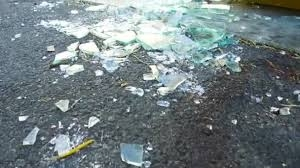glass: (99, 1, 223, 47), (118, 140, 146, 166), (157, 67, 187, 90), (48, 133, 76, 157), (216, 49, 242, 72), (20, 125, 44, 147), (59, 62, 88, 78), (53, 97, 74, 113), (86, 114, 101, 128), (43, 42, 57, 52)
